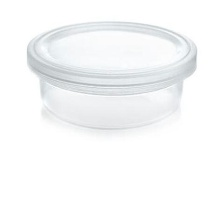plastic_box: (20, 13, 204, 136)
